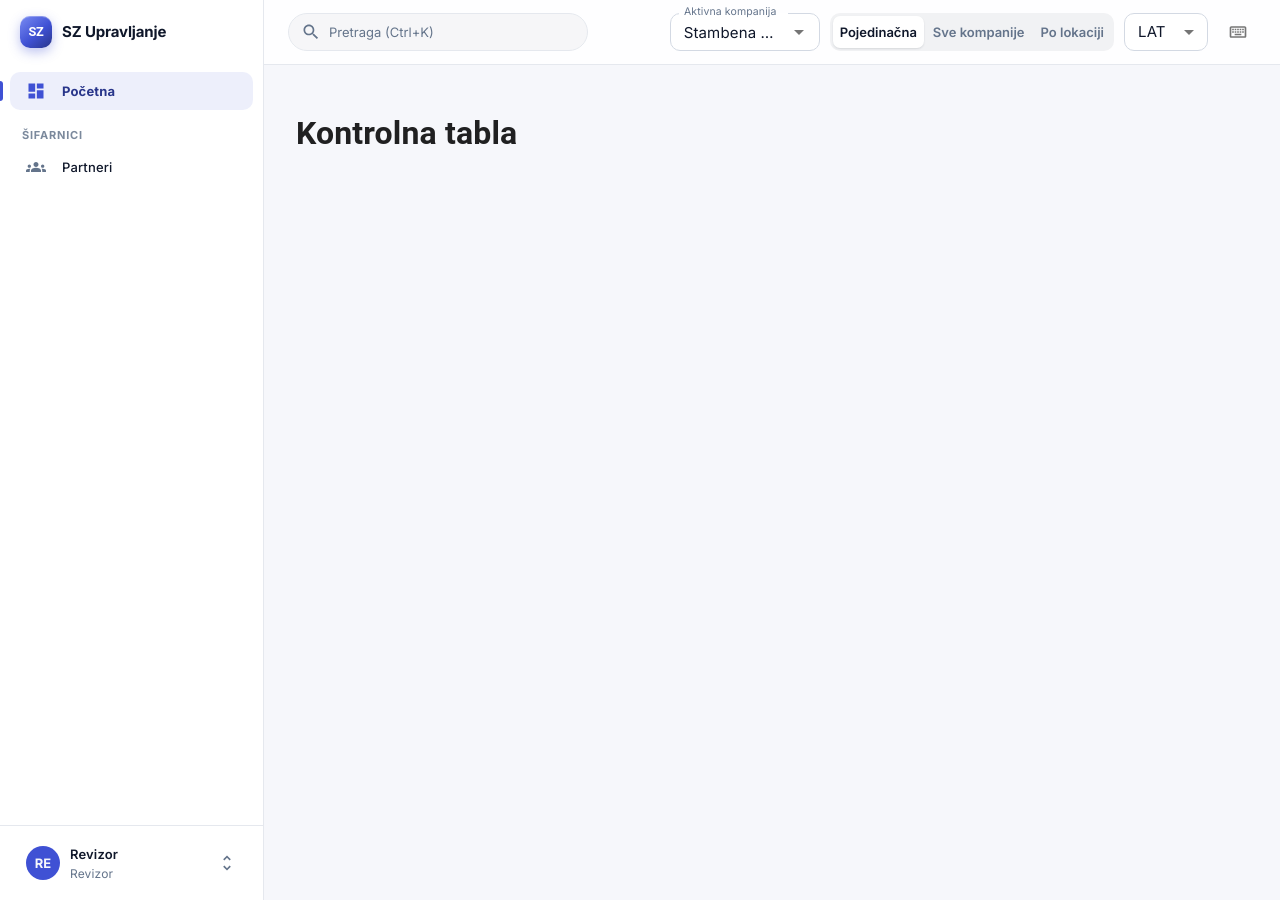
Test: AppShell › izlaže landmark-e i prikazuje stavke menija dobijene sa API-ja
The image size is (1280, 900).
Expected: the navigation bar named "Glavna navigacija" is shown, [10, 72, 253, 177]
Expected: the element showing "Kontrolna tabla" is shown, [296, 114, 517, 152]
Sign-out lives in the account menu opened from the sidebar footer.
Click the button "RE Revizor Revizor": click(43, 863) [10, 836, 253, 890]
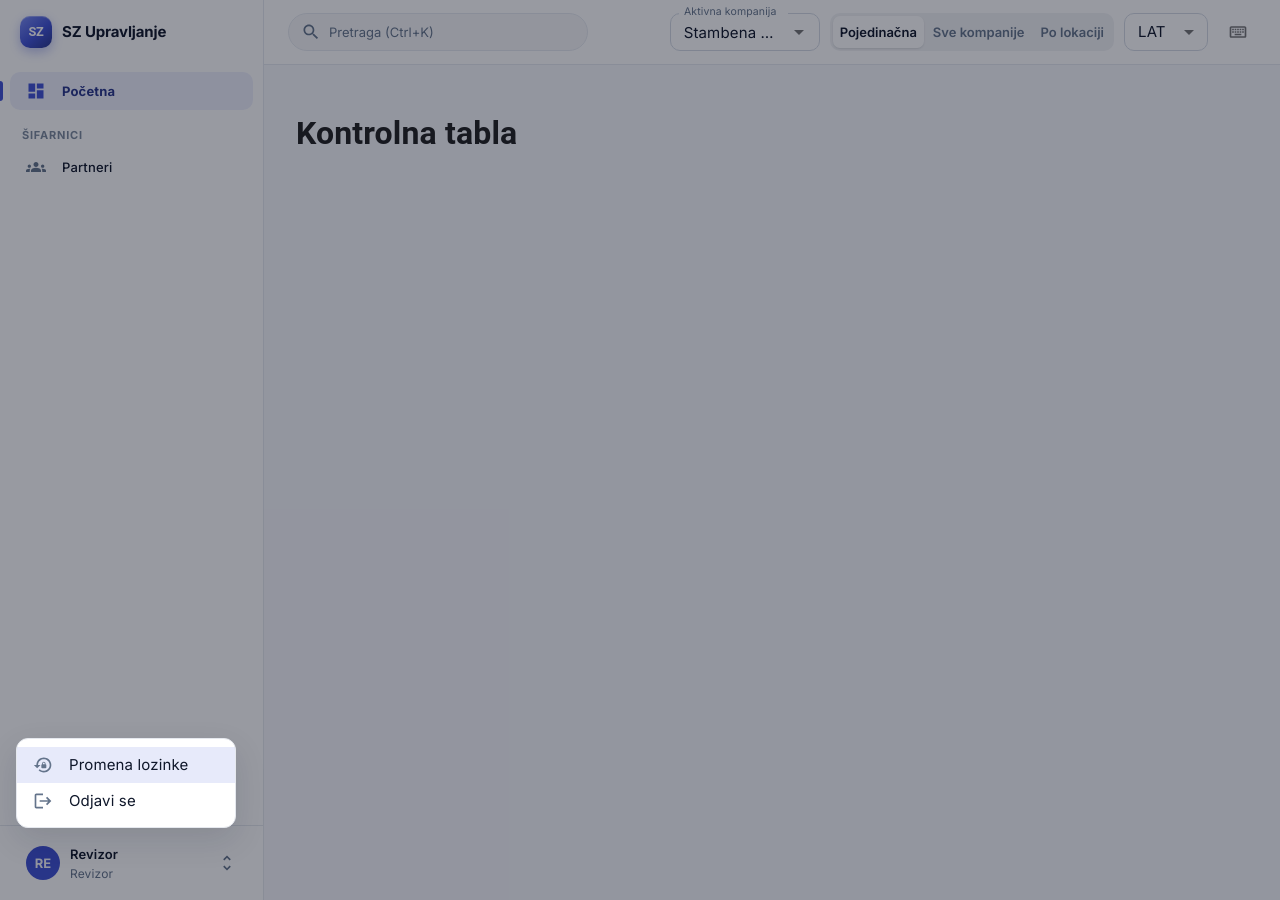
Result: the menu item "Odjavi se" is shown at [33, 791, 136, 811]
